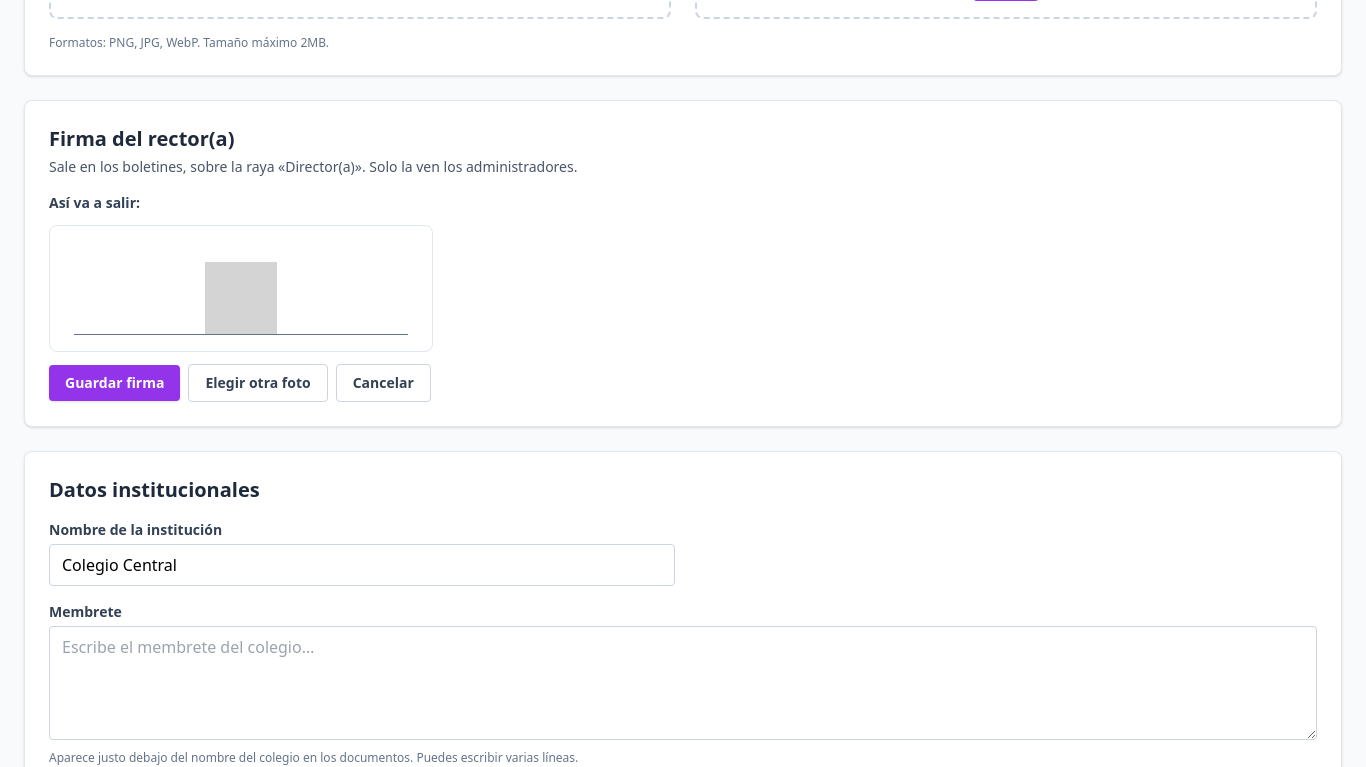
Scenario: BrandingAdmin › la firma del rector(a) se sube con una foto y se guarda sola, sin «Guardar cambios»
Earlier steps of the test are not shown.
Later steps or results of the test are not shown.
(page scrolled)
Check: the heading "Firma del rector(a)" is shown, box [49,125,234,152]
Check: the text "Así va a salir:" is shown, box [49,193,140,212]
Step 1. Click the button "Guardar firma" → point(115, 383), box [49,365,180,401]
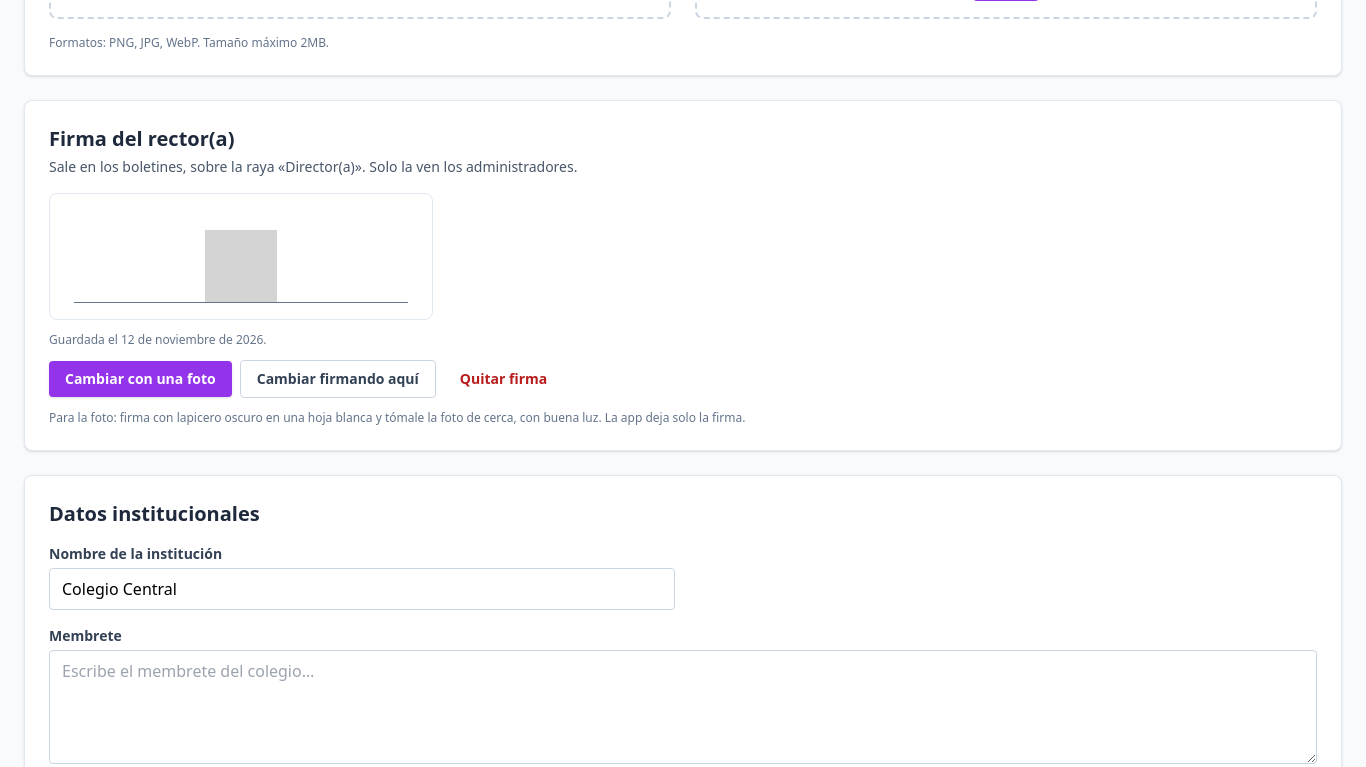
Check: the text "Guardada el 12 de noviembre de 2026." is shown, box [49,331,267,348]
Check: the button "Quitar firma" is shown, box [444,361,563,397]
